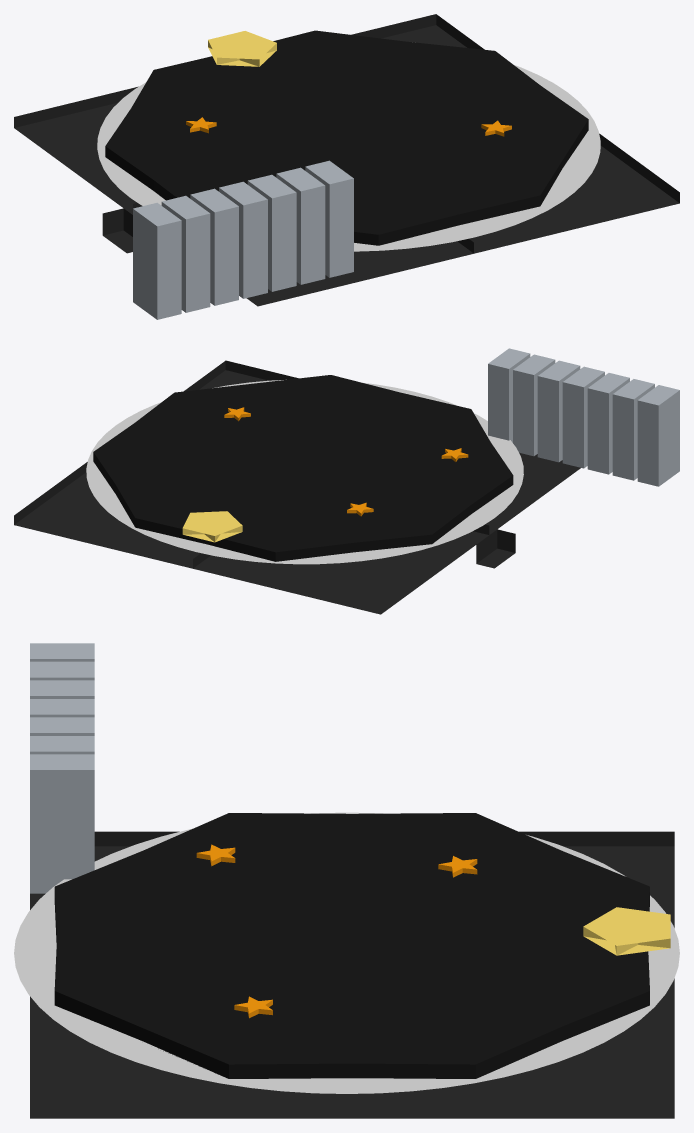
File: Hộp đèn chibi 2 mặt LED viền 120 x120.obj
3 renders of one model, top to bottom at view 1: azimuth 30°, elevation 25°; view 2: azimuth 150°, elevation 25°; view 3: azimuth 270°, elevation 25°, orthographic. The views are drawn at different scales.
Visible parts, largest first — view 1: khoi; view 2: khoi; view 3: khoi.
Part boxes in pixels (x1,y1,x2,y2): khoi: (14, 14, 679, 319); khoi: (14, 348, 679, 614); khoi: (14, 643, 679, 1118).
Bounding box in the file's own units: 1.51 × 0.344 × 1.24.
